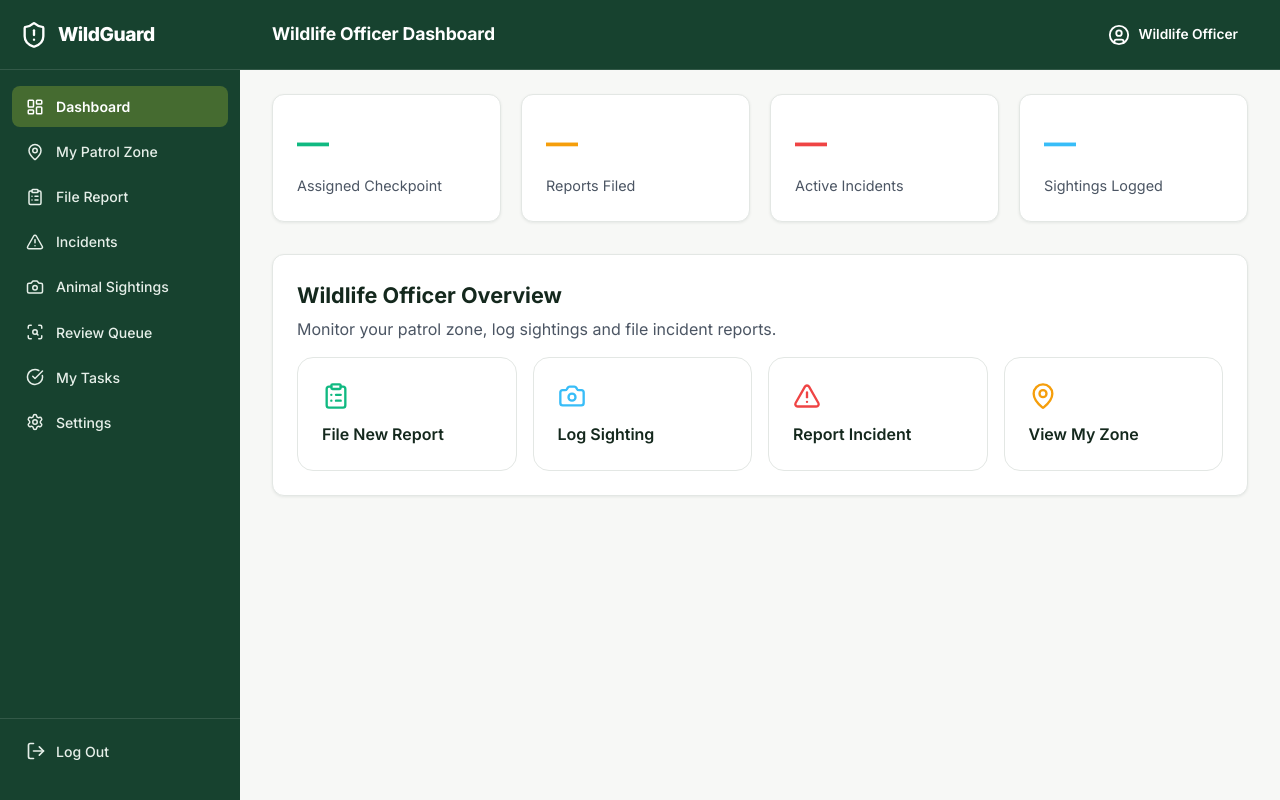
Scenario: WildlifeOfficerDashboard - UC02 integration › existing shell navigation is unchanged: Overview by default and other modules still under construction
Expected: the heading "Wildlife Officer Overview" is shown, [297,282,562,308]
Click the text "Settings" at {"x": 84, "y": 422}, box [56,412,111,433]
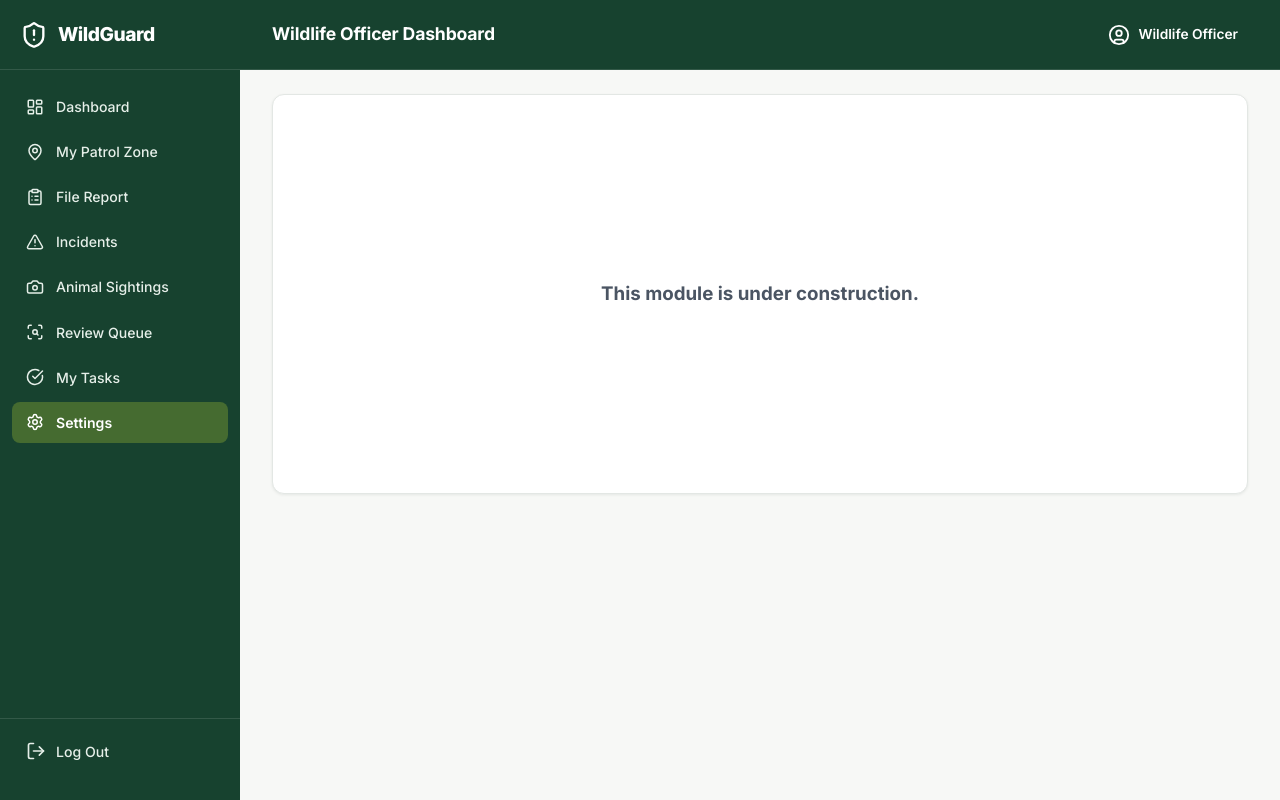
Now the heading "This module is under construction." is shown, box [601,280,919,308]
